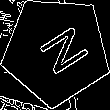N_SW: (25, 20, 88, 81)
